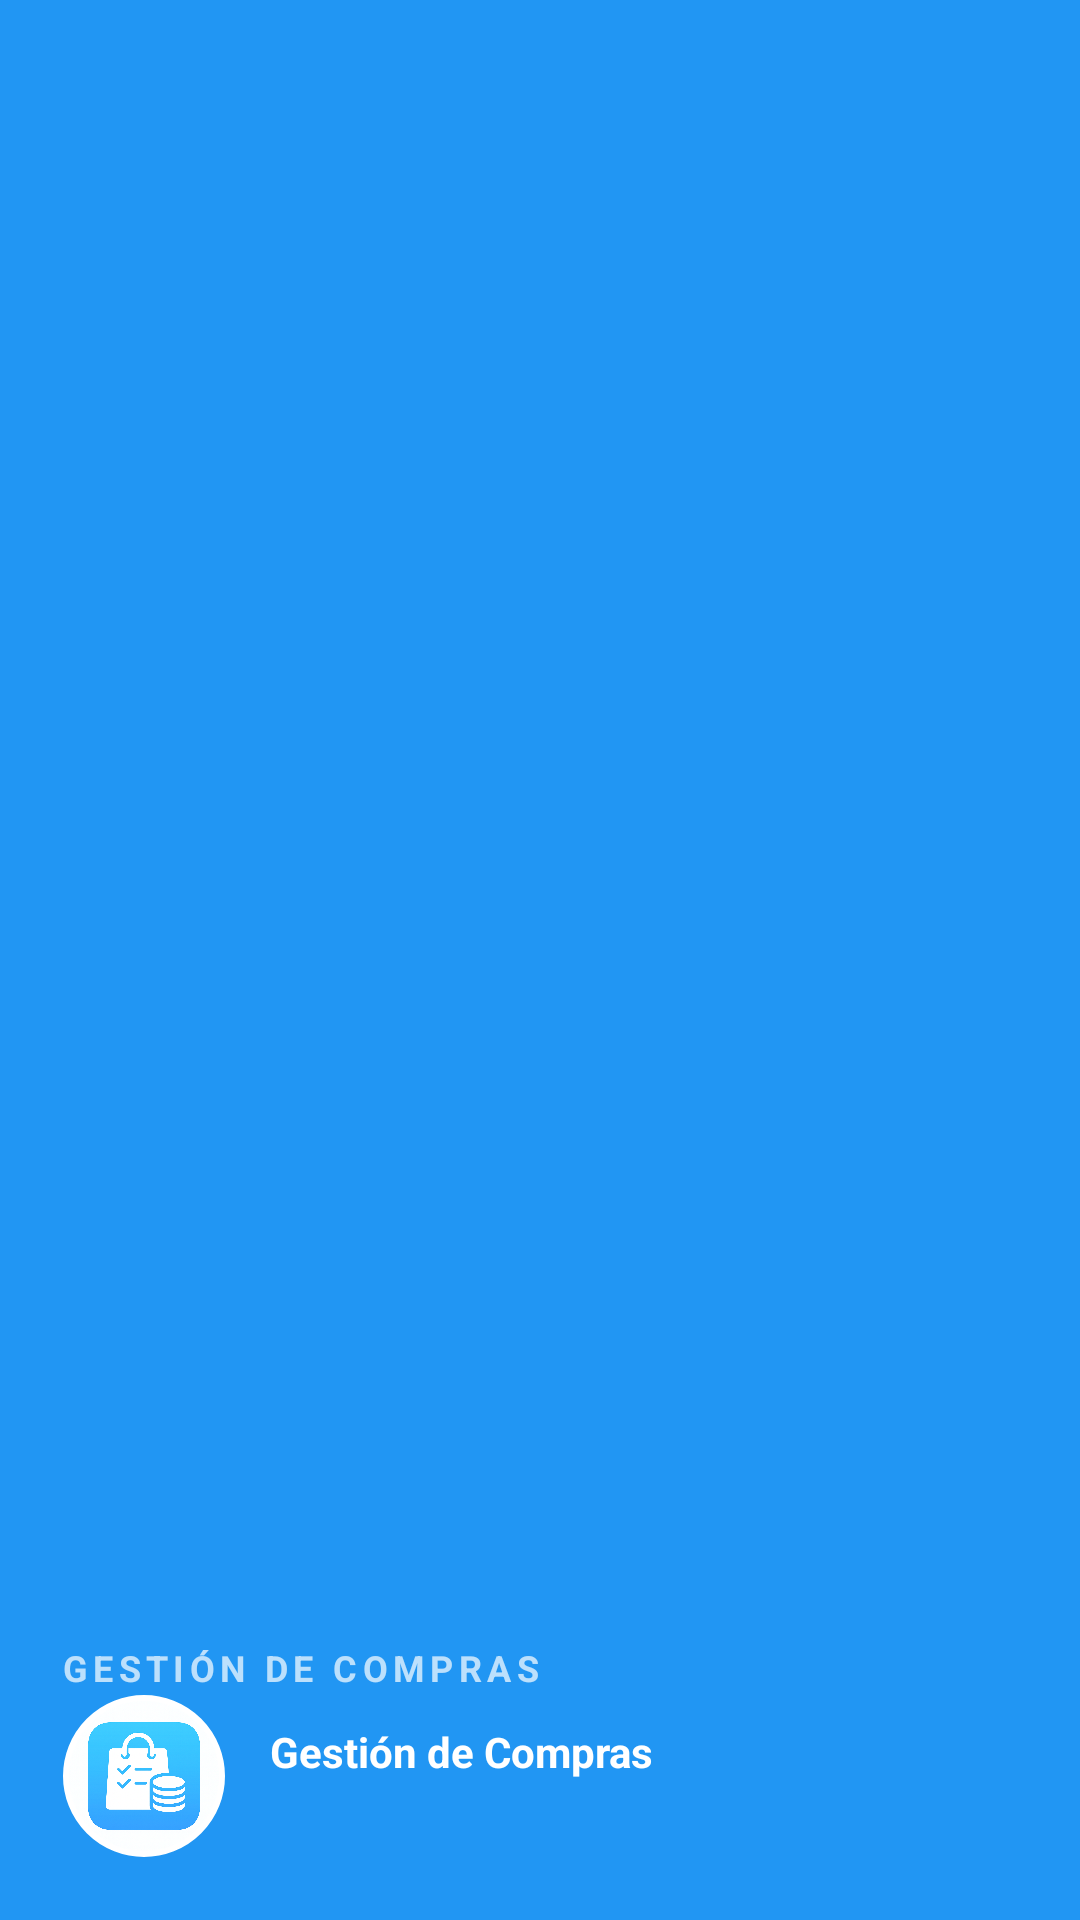

Screen size 1080px x 1920px. Icon name, then its box in pixels as [x1=x1, y1=y1, x2=x2, y2=y2]:
shoppong: [x1=63, y1=1695, x2=225, y2=1857]
